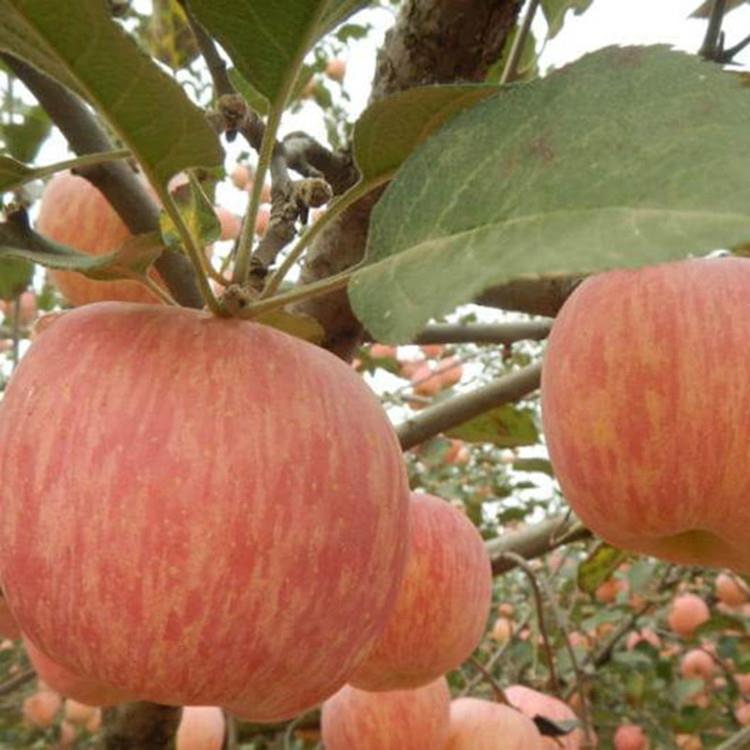apple: (1, 303, 409, 713), (532, 259, 750, 576), (344, 483, 496, 692), (30, 170, 202, 304)
